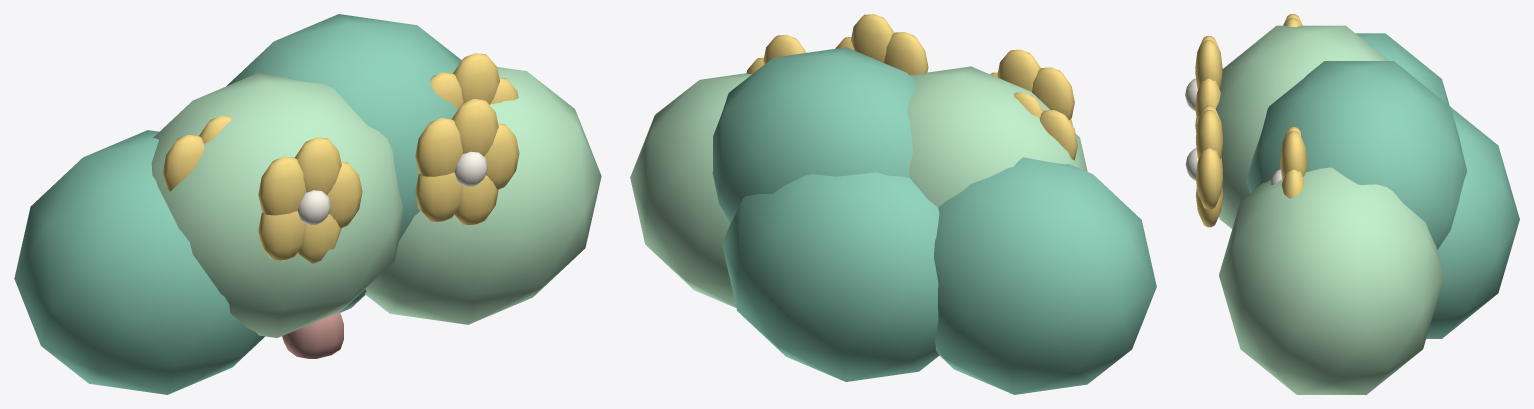
Rendered from meadow_bush_1.glb.
3 views of the same model, side by side, from view 1: azimuth 30°, elevation 25°; view 2: azimuth 150°, elevation 25°; view 3: azimuth 270°, elevation 25° (orthographic). The views are drawn at different scales.
Visible parts, largest first — view 1: LeafMass_0.001, LeafMass_1.001, LeafMass_3.001, LeafMass_2.001, Flower_4_Petal_2.001, Flower_3_Petal_2.001, Root.001, Flower_4_Petal_1.001, Flower_3_Petal_1.001, Flower_4_Petal_3.001, Flower_3_Petal_3.001, Flower_0_Petal_1.001 (+8 smaller); view 2: LeafMass_0.001, LeafMass_4.001, LeafMass_2.001, LeafMass_3.001, LeafMass_1.001, Flower_3_Petal_2.001, Flower_4_Petal_1.001, Flower_4_Petal_2.001, Flower_3_Petal_1.001, Flower_2_Petal_2.001, Flower_0_Petal_1.001; view 3: LeafMass_3.001, LeafMass_2.001, LeafMass_1.001, LeafMass_4.001, LeafMass_0.001, Flower_4_Petal_0.001, Flower_3_Petal_1.001, Flower_4_Petal_1.001, Flower_0_Petal_1.001, Flower_3_Petal_0.001, Flower_4_Petal_4.001, Flower_0_Petal_0.001.
Boxes of the visible parts, box(x1,y1,x2,y2) form: LeafMass_0.001: box(14, 130, 264, 394); LeafMass_1.001: box(151, 73, 403, 337); LeafMass_3.001: box(365, 67, 601, 324); LeafMass_2.001: box(226, 14, 461, 240); Flower_4_Petal_2.001: box(415, 118, 463, 176); Flower_3_Petal_2.001: box(258, 156, 306, 215); Root.001: box(282, 312, 343, 358); Flower_4_Petal_1.001: box(452, 99, 498, 156); Flower_3_Petal_1.001: box(295, 137, 341, 194); Flower_4_Petal_3.001: box(415, 172, 463, 222); Flower_3_Petal_3.001: box(258, 211, 306, 260); Flower_0_Petal_1.001: box(453, 53, 499, 104); LeafMass_0.001: box(934, 157, 1156, 394); LeafMass_4.001: box(722, 172, 939, 381); LeafMass_2.001: box(712, 47, 915, 222); LeafMass_3.001: box(630, 73, 751, 307); LeafMass_1.001: box(907, 66, 1087, 207); Flower_3_Petal_2.001: box(1032, 67, 1074, 119); Flower_4_Petal_1.001: box(850, 14, 894, 62); Flower_4_Petal_2.001: box(884, 32, 928, 74); Flower_3_Petal_1.001: box(997, 49, 1040, 91); Flower_2_Petal_2.001: box(1039, 110, 1077, 160); Flower_0_Petal_1.001: box(763, 34, 806, 63); LeafMass_3.001: box(1219, 167, 1444, 394); LeafMass_2.001: box(1246, 61, 1466, 249); LeafMass_1.001: box(1215, 25, 1388, 228); LeafMass_4.001: box(1426, 107, 1519, 338); LeafMass_0.001: box(1356, 33, 1449, 105); Flower_4_Petal_0.001: box(1195, 148, 1222, 209); Flower_3_Petal_1.001: box(1195, 40, 1222, 89); Flower_4_Petal_1.001: box(1196, 110, 1222, 159); Flower_0_Petal_1.001: box(1280, 131, 1307, 179); Flower_3_Petal_0.001: box(1195, 78, 1220, 123); Flower_4_Petal_4.001: box(1196, 186, 1222, 227); Flower_0_Petal_0.001: box(1281, 169, 1304, 198).
Size of the model in its own units: 3.3 by 1.83 by 1.96.
